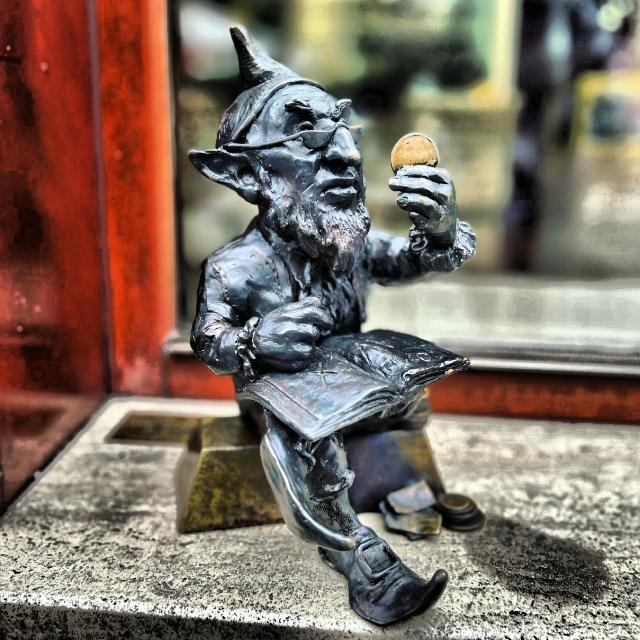Gaugan: (176, 27, 483, 628)
